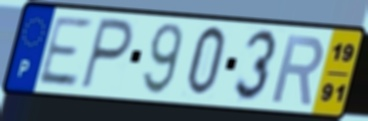0: (183, 24, 229, 103)
3: (230, 28, 282, 105)
9: (139, 22, 185, 98)
E: (34, 13, 95, 89)
P: (78, 15, 136, 93)
R: (269, 32, 327, 107)
